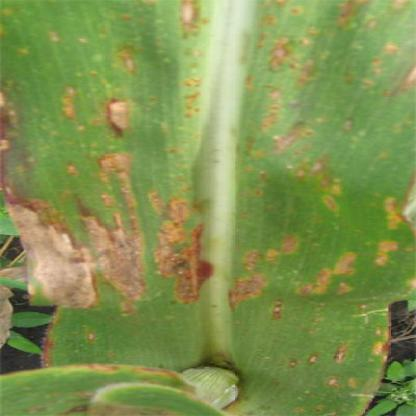corn leaf blight: (7, 2, 415, 383)
